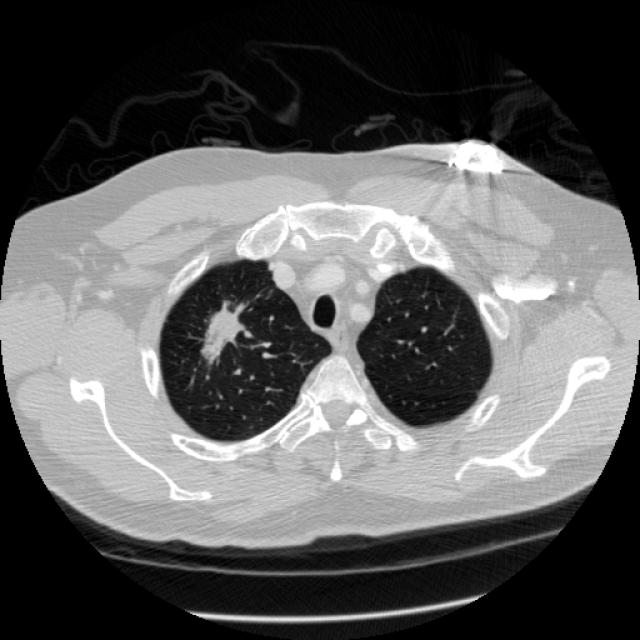nodule: (179, 289, 266, 376)
